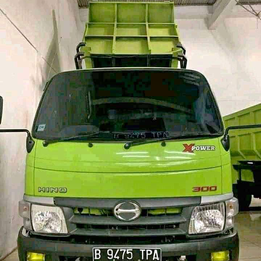plate: (91, 246, 157, 261)
